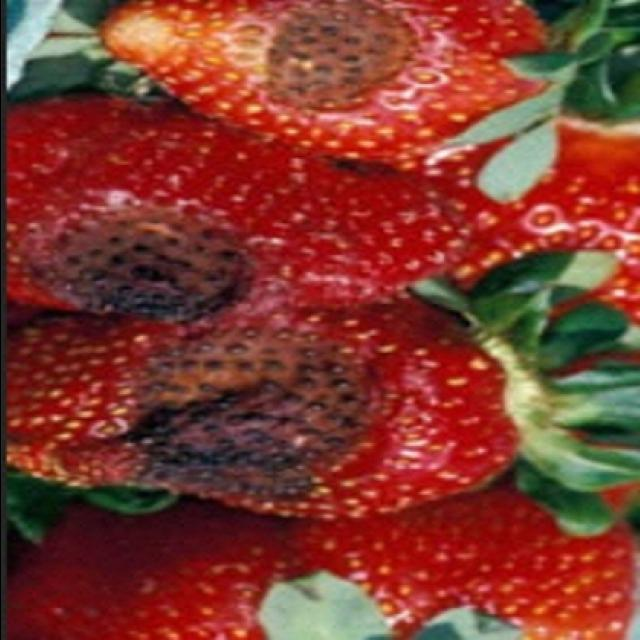Anthracnose Fruit Rot: (117, 315, 380, 506), (22, 185, 258, 326), (257, 0, 425, 124)
